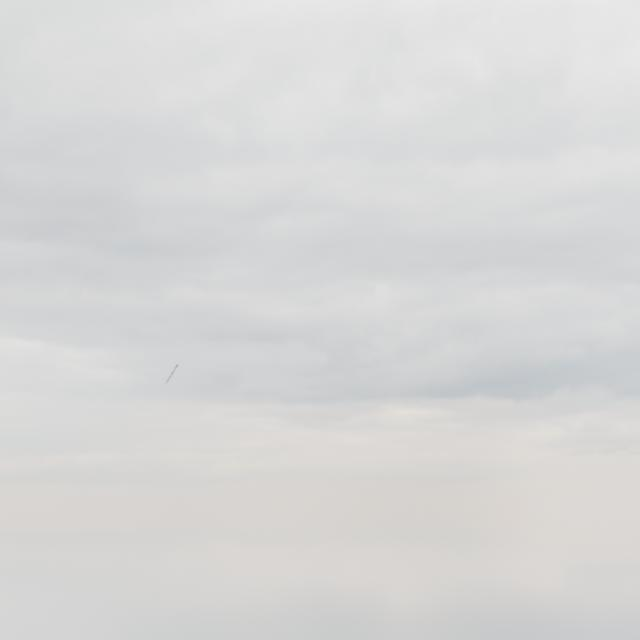Airaplan: (165, 364, 179, 385)
